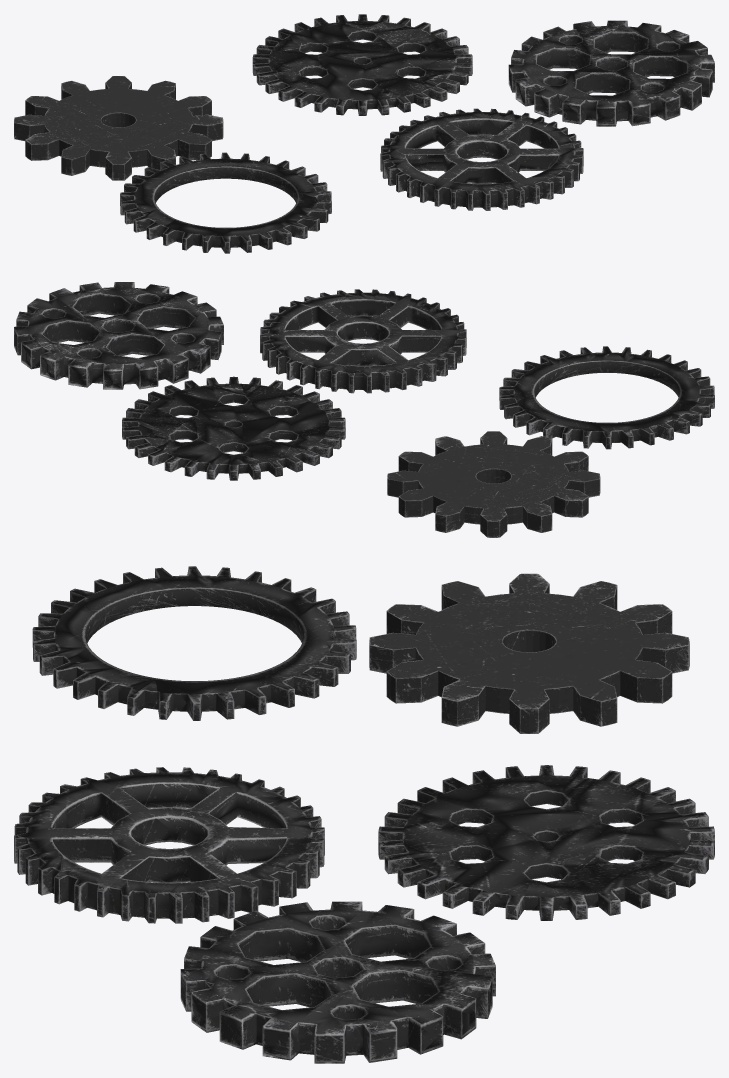
File: gears.glb
The picture shows the model from 3 angles, top to bottom: view 1: azimuth 30°, elevation 25°; view 2: azimuth 150°, elevation 25°; view 3: azimuth 270°, elevation 25°; orthographic projection. The views are drawn at different scales.
Parts seen in each view (by area): view 1: defaultMaterial (×5); view 2: defaultMaterial (×5); view 3: defaultMaterial (×5).
Part boxes in pixels (bbox=[...]): defaultMaterial (×5): bbox=[14, 14, 714, 253]; defaultMaterial (×5): bbox=[14, 282, 714, 537]; defaultMaterial (×5): bbox=[14, 566, 714, 1063].
Size of the model in its own units: 2 by 0.081 by 1.29.
Materials: 5 (5 with a texture image).
